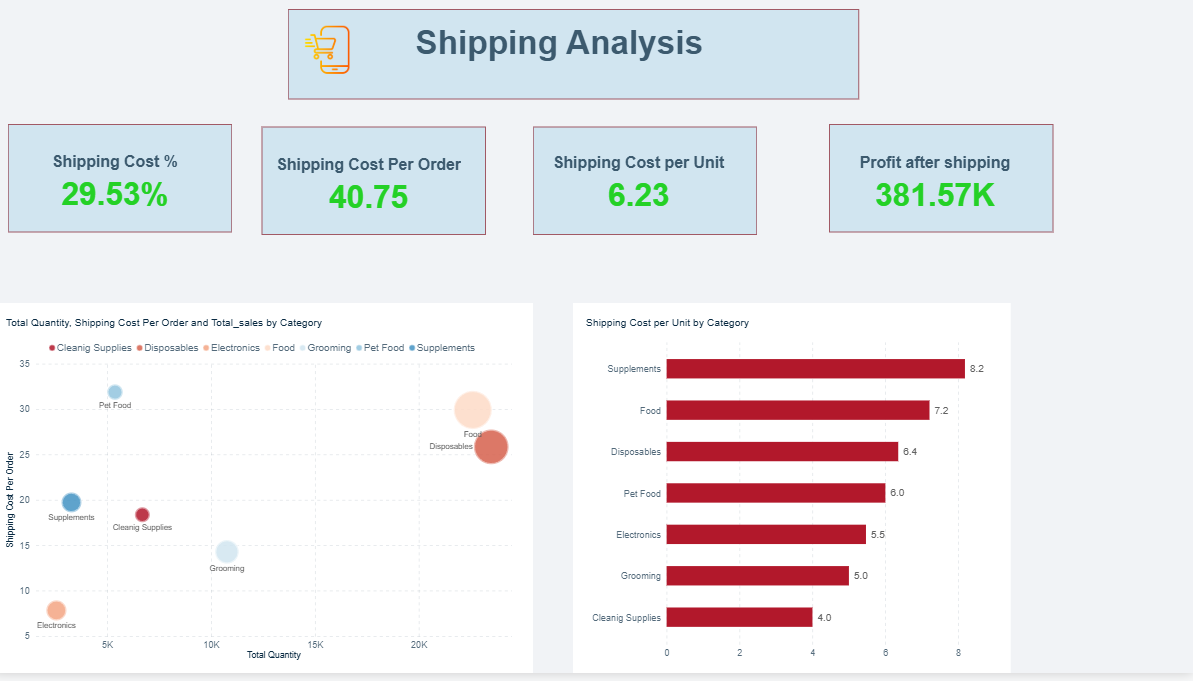

Layout of this report page (visuals, bound fields, positions):
{"tool":"powerbi","page":{"name":"Shipping cost analysis","canvas":[1920,1080],"ordinal":3},"visuals":[{"type":"shape","box":[471.4,18.5,913.9,144.1],"z":0},{"type":"textbox","box":[676,40,1020,122],"z":1000},{"type":"image","box":[472,18,127.6,129.7],"z":2000},{"type":"shape","box":[24.7,201.7,358.1,172.9],"z":3000},{"type":"cardVisual","title":"Total  Sales","fields":{"Data":["Meaures.Shipping Cost %"]},"box":[6.2,212,378.7,142],"z":4000},{"type":"shape","box":[429.9,206.9,358.1,172.9],"z":5000},{"type":"cardVisual","title":"Total  Sales","fields":{"Data":["Meaures.Shipping Cost Per Order"]},"box":[411.4,217.2,378.7,142],"z":6000},{"type":"shape","box":[863.5,206.9,358.1,172.9],"z":7000},{"type":"cardVisual","title":"Total  Sales","fields":{"Data":["Meaures.Shipping Cost per Unit"]},"box":[843.3,213.5,378.7,142],"z":8000},{"type":"shape","box":[1338,202,358.1,172.9],"z":9000},{"type":"cardVisual","title":"Total  Sales","fields":{"Data":["Meaures.Profit after shipping"]},"box":[1318,214,378.7,142],"z":10000},{"type":"scatterChart","fields":{"Series":["dim_products.Category"],"Size":["Meaures.Total_sales"],"X":["Meaures.Total Quantity"],"Y":["Meaures.Shipping Cost Per Order"]},"box":[0,488,864,592],"z":11000},{"type":"clusteredBarChart","fields":{"Category":["dim_products.Category"],"Y":["Meaures.Shipping Cost per Unit"]},"box":[928,488,700,592],"z":12000}]}

Visuals, with their boxes in screenshot pixels (x1, y1, x2, y2), scaled from the page's 1920x1080 canvas onto the 1193x681 screenshot:
shape: [293,12,861,103]
textbox: [420,25,1054,102]
image: [293,11,373,93]
shape: [15,127,238,236]
"Total  Sales" cardVisual: [4,134,239,223]
shape: [267,130,490,239]
"Total  Sales" cardVisual: [256,137,491,226]
shape: [537,130,759,239]
"Total  Sales" cardVisual: [524,135,759,224]
shape: [831,127,1054,236]
"Total  Sales" cardVisual: [819,135,1054,224]
scatterChart - dim_products.Category x Meaures.Total_sales: [0,308,537,680]
clusteredBarChart - dim_products.Category x Meaures.Shipping Cost per Unit: [577,308,1012,680]
